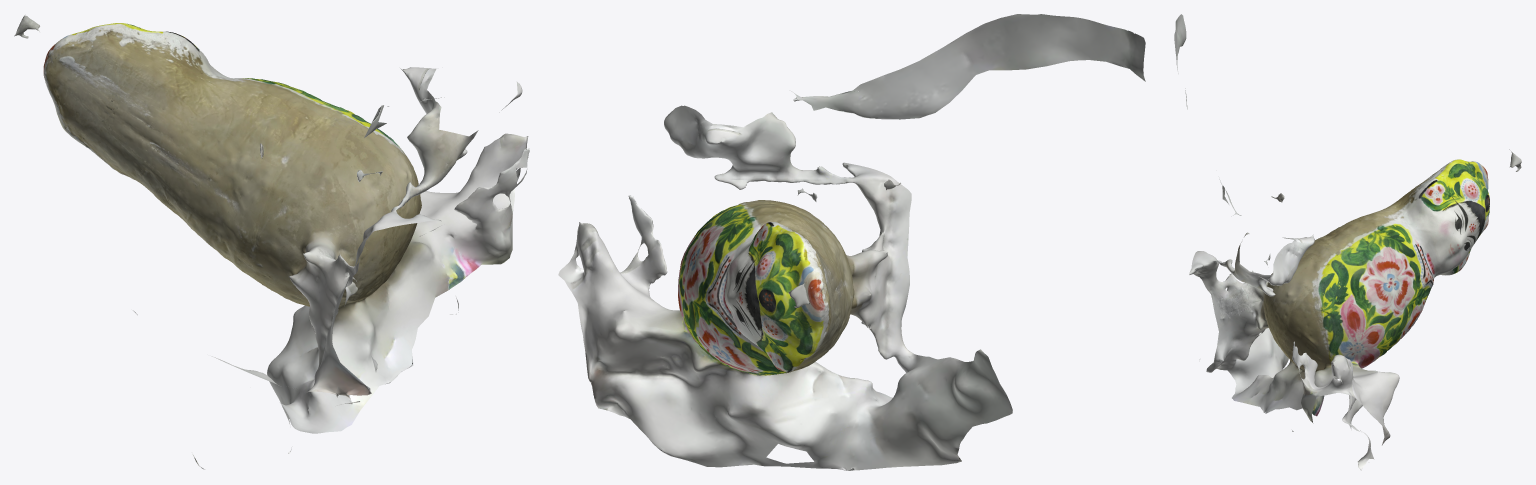
The picture shows the model from 3 angles, left to right: view 1: azimuth 30°, elevation 25°; view 2: azimuth 150°, elevation 25°; view 3: azimuth 270°, elevation 25°; orthographic projection. The views are drawn at different scales.
Bounding box in the file's own units: 2.03 × 1.78 × 1.68.
Materials: 1 (1 with a texture image).
